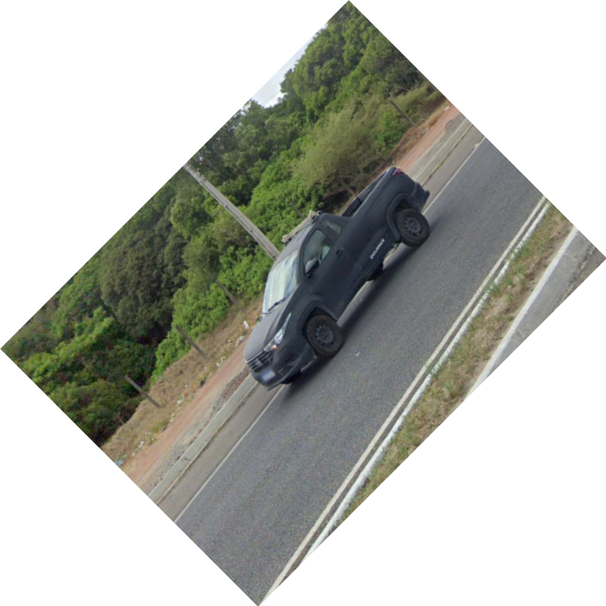car: (241, 164, 434, 393)
